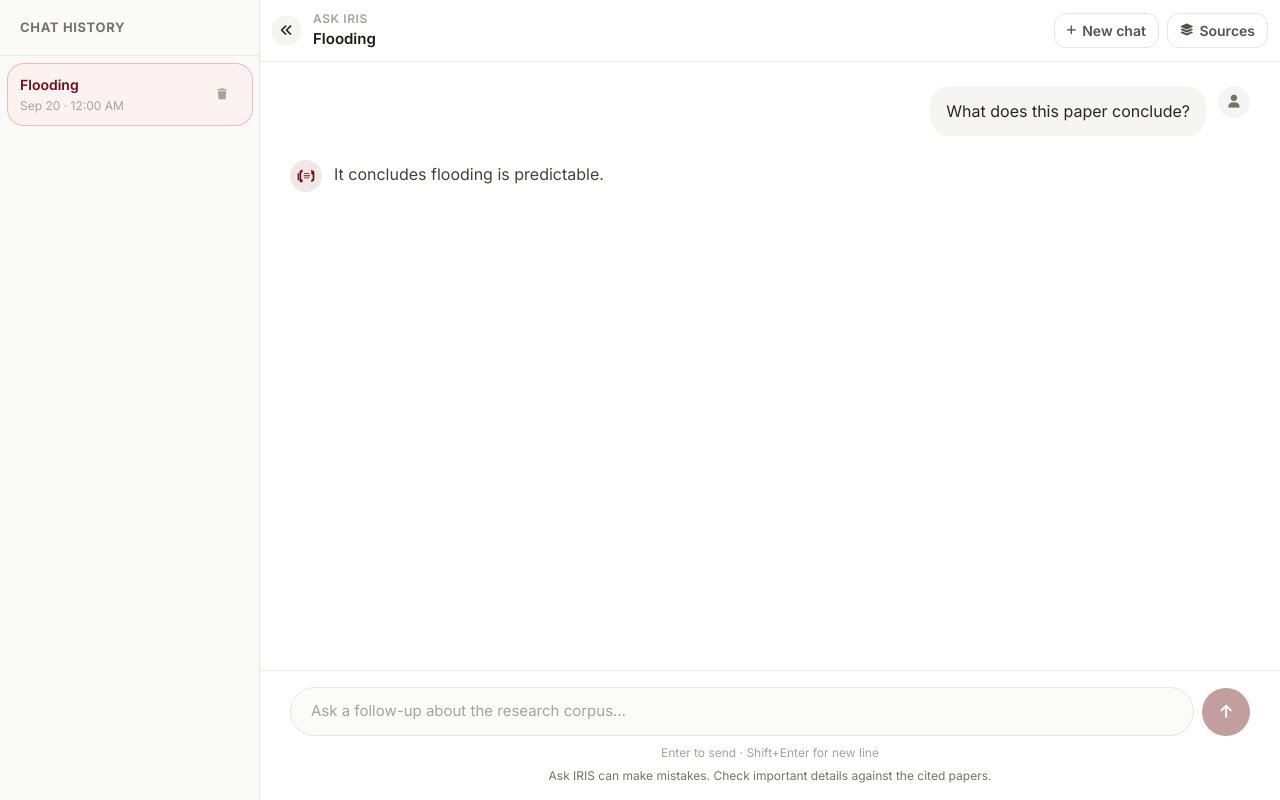
it: persisted conversations › sends a follow-up as itself, not the whole transcript glued together
Check: the text "What does this paper conclude?" is shown, box x1=946 y1=98 x2=1190 y2=124
Type "What about its limitations?" into the text box labelled "Ask a follow-up about the research corpus…" at (742, 711), box x1=290 y1=687 x2=1194 y2=736
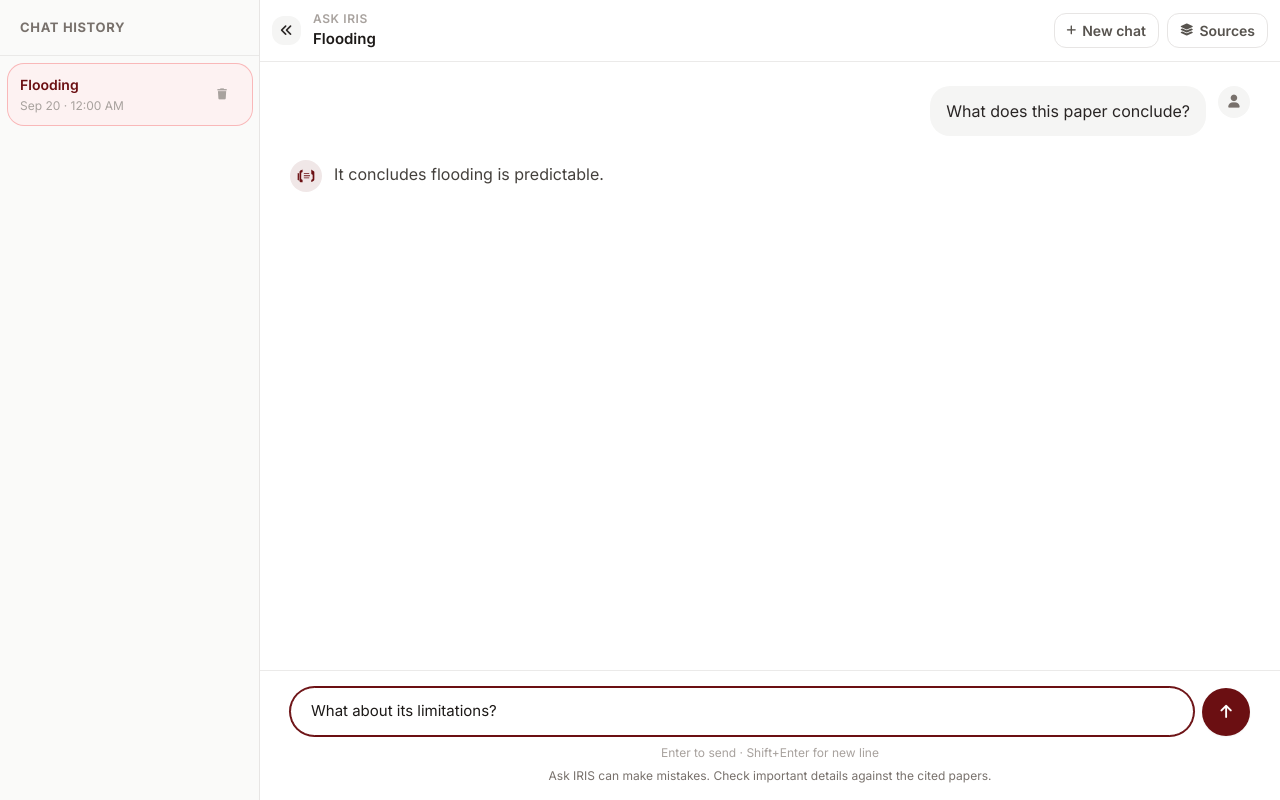
Click the button named "send message" at (1226, 712), box x1=1202 y1=688 x2=1250 y2=736
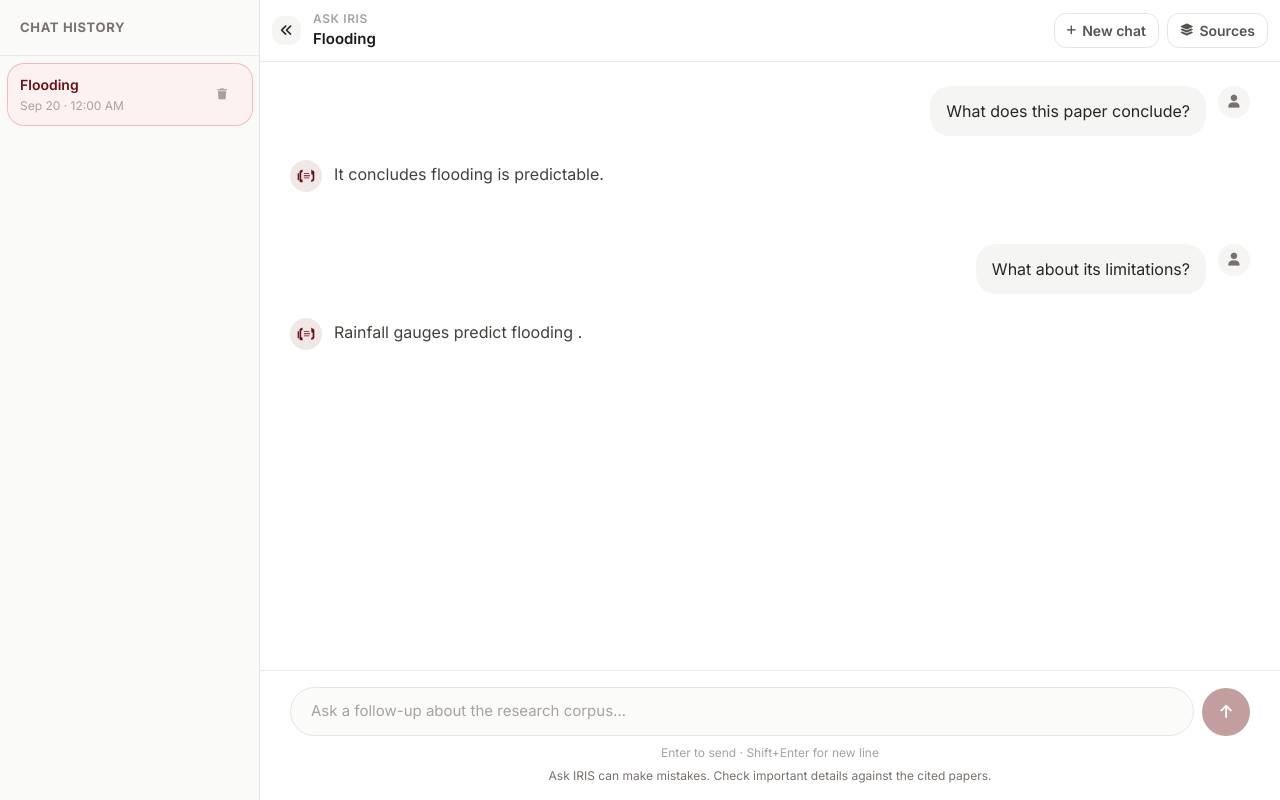
Check: the text "What about its limitations?" is shown, box x1=992 y1=256 x2=1190 y2=282
